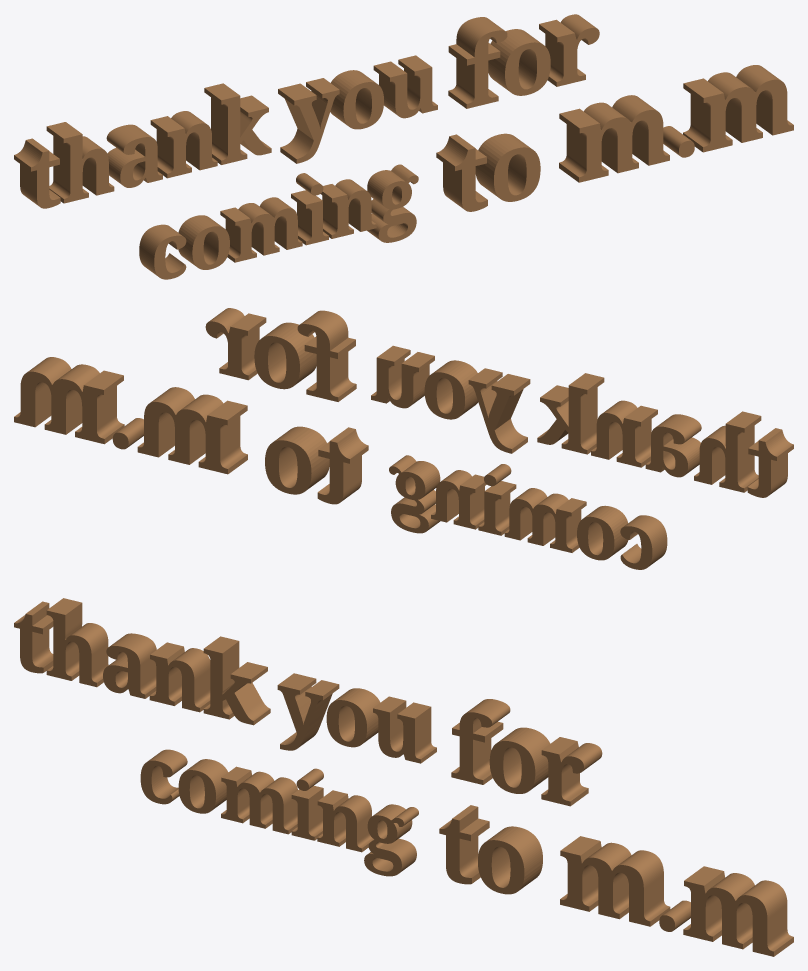
Rendered from omedetou.obj.
3 views of the same model, one above another, from view 1: azimuth 30°, elevation 25°; view 2: azimuth 150°, elevation 25°; view 3: azimuth 330°, elevation 25° (orthographic).
Visible parts, largest first — view 1: obj_0; view 2: obj_0; view 3: obj_0.
Part boxes in pixels (x1,y1,x2,y2): obj_0: (14,14,793,279); obj_0: (14,308,793,569); obj_0: (14,598,793,956).
Bounding box in the file's own units: 139 × 32.54 × 6.37.
